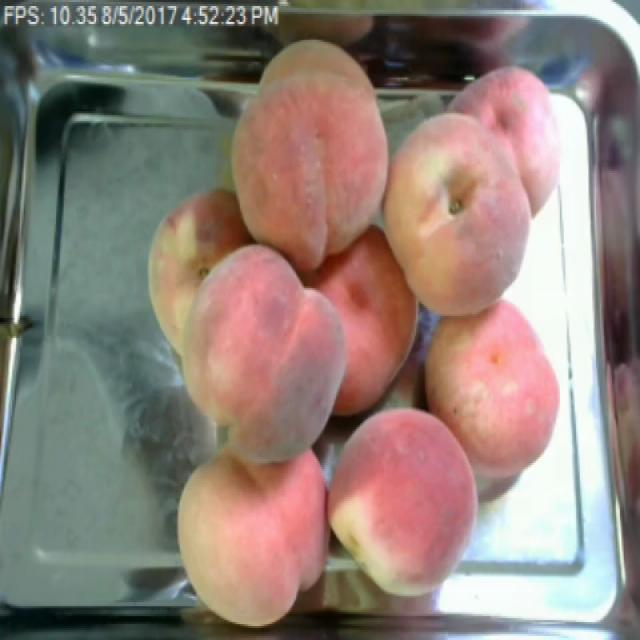Fruit: (365, 52, 556, 328), (138, 221, 358, 459), (220, 28, 401, 280), (164, 433, 344, 638), (318, 398, 490, 610), (418, 292, 574, 485)
